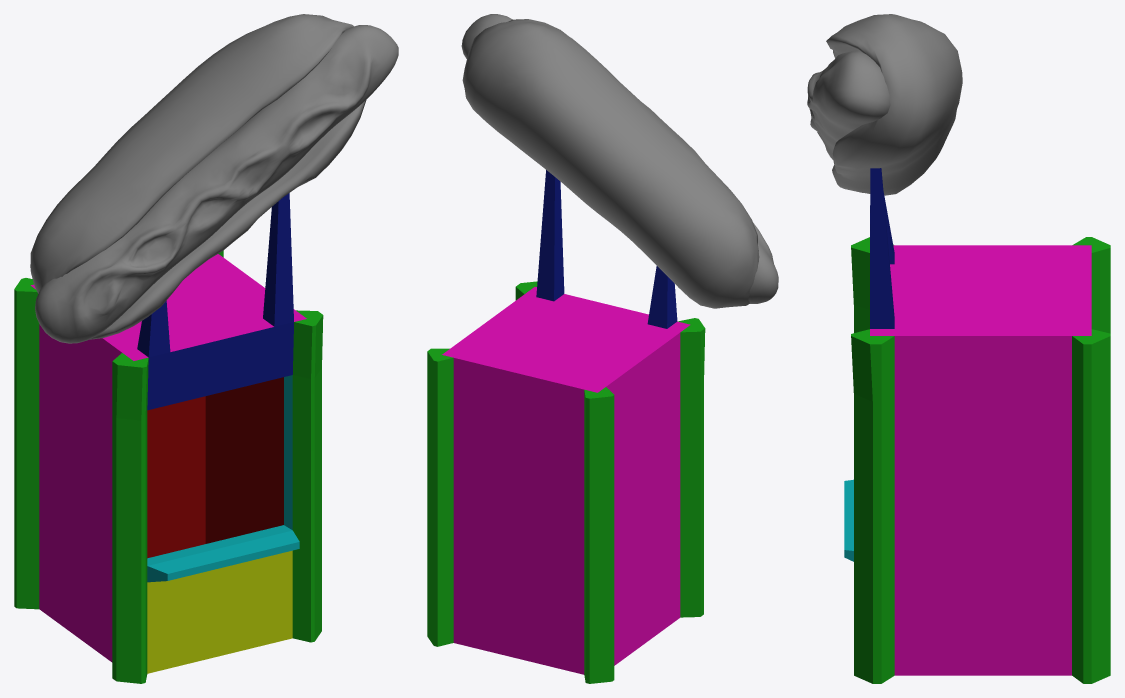
File: Hbot_low.fbx
3 renders of one model, left to right at view 1: azimuth 30°, elevation 25°; view 2: azimuth 150°, elevation 25°; view 3: azimuth 270°, elevation 25°, orthographic. The views are drawn at different scales.
Visible parts, largest first — view 1: HotBooth_low, Bun_low, Dog_Low; view 2: HotBooth_low, Bun_low, Dog_Low; view 3: HotBooth_low, Bun_low, Dog_Low.
Boxes of the visible parts, x1,y1,x2,y2 form: HotBooth_low: (14,193,323,683); Bun_low: (30,14,366,339); Dog_Low: (35,25,398,343); HotBooth_low: (427,170,705,683); Bun_low: (462,19,759,308); Dog_Low: (461,14,778,303); HotBooth_low: (844,168,1110,683); Bun_low: (826,14,962,195); Dog_Low: (807,51,890,160).
Size of the model in its own units: 158 by 265 by 111.
